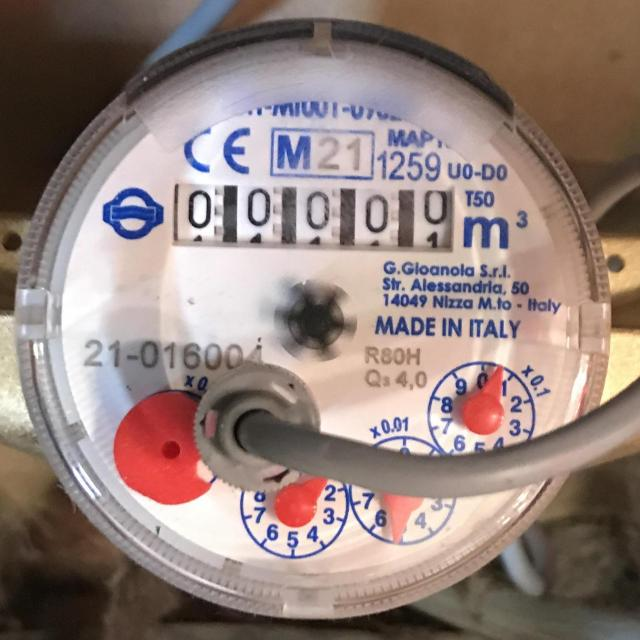gaz_meter: (61, 53, 594, 585)
indication: (175, 187, 453, 250)
